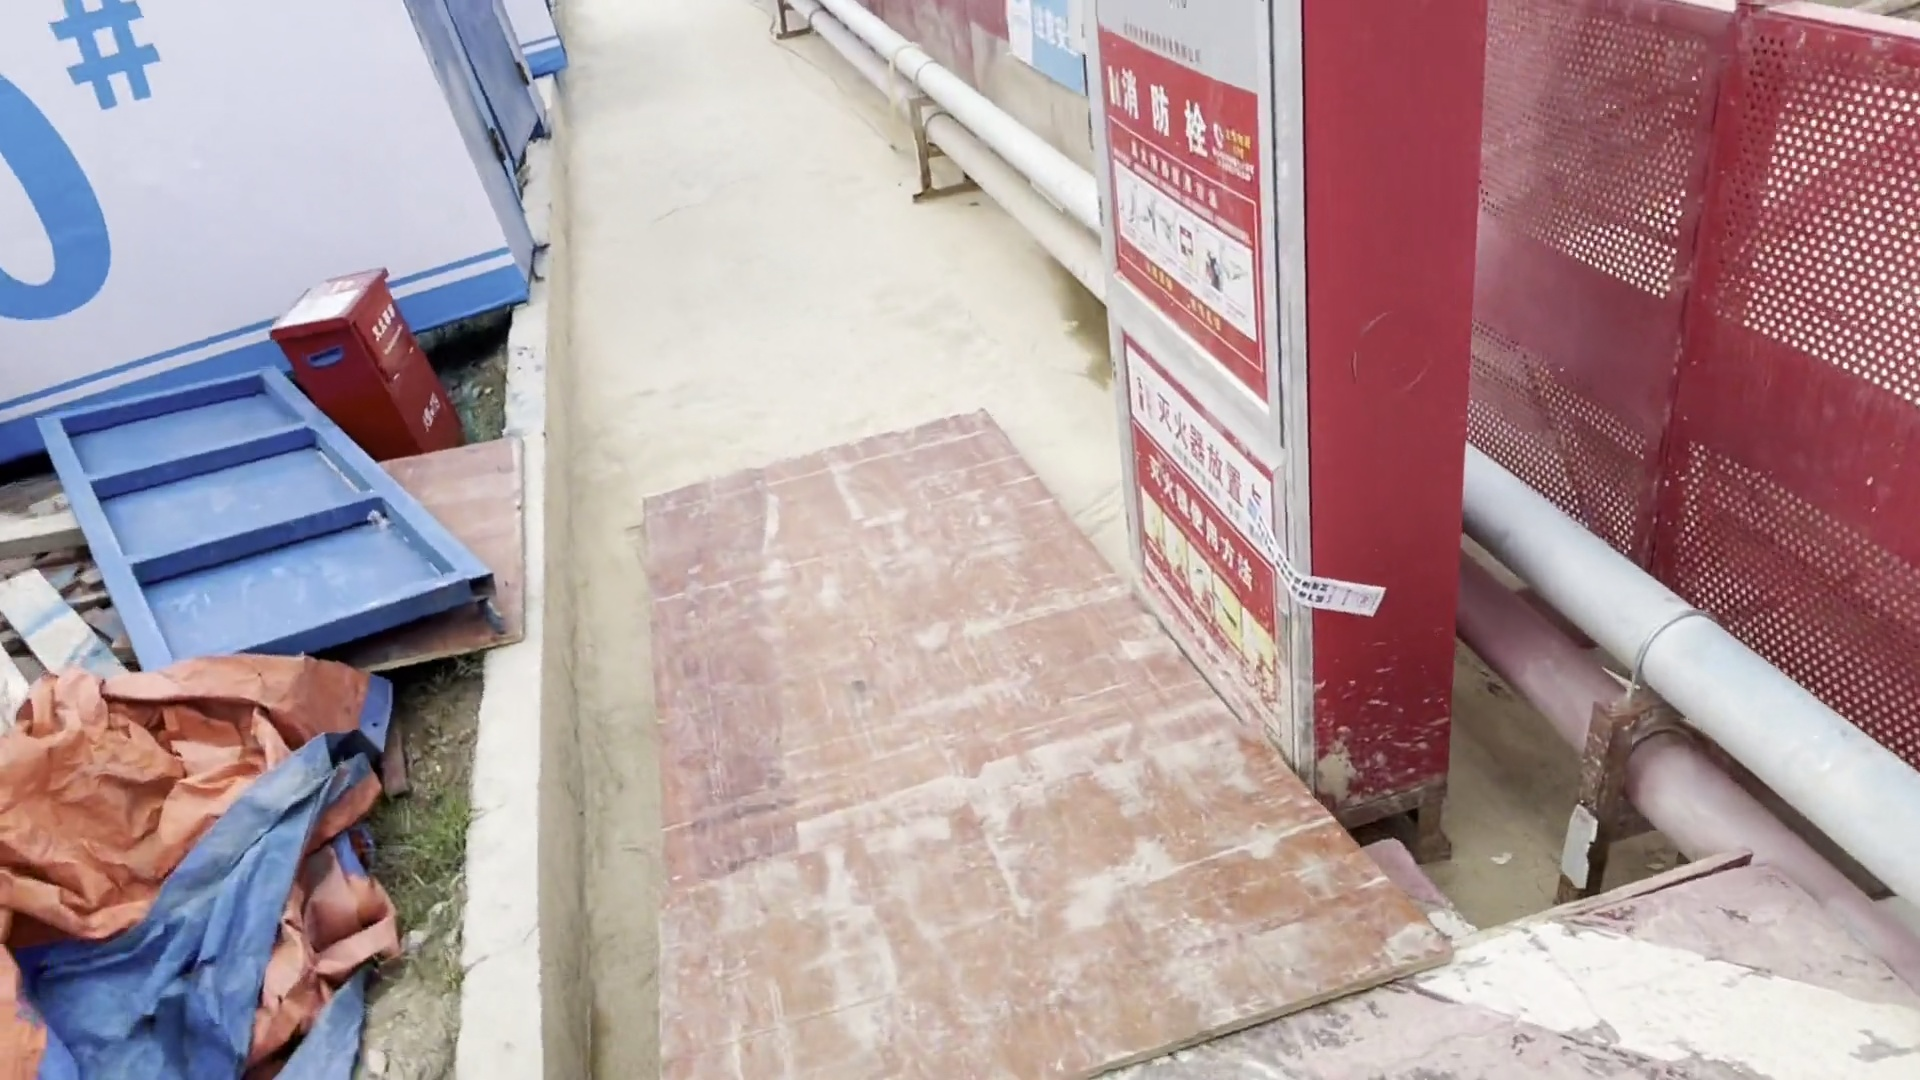board: (615, 440, 1220, 1080)
fence: (1499, 1, 1915, 740)
